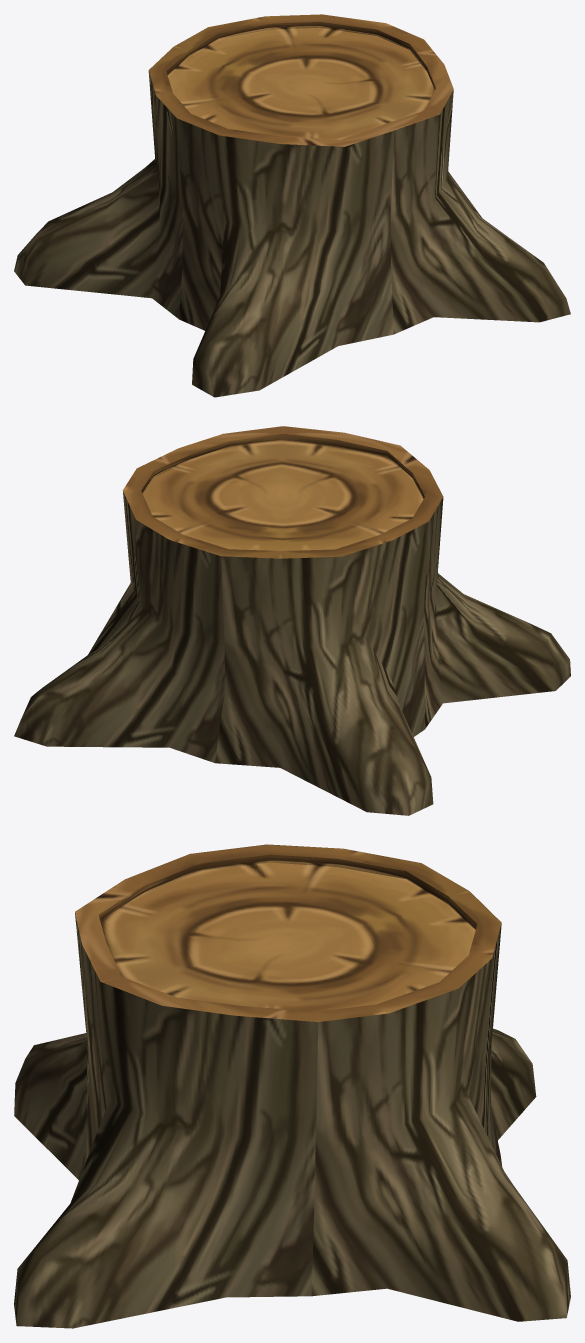
Rendered from Stump01.fbx.
3 views of the same model, one above another, from view 1: azimuth 30°, elevation 25°; view 2: azimuth 150°, elevation 25°; view 3: azimuth 270°, elevation 25° (orthographic). The views are drawn at different scales.
Visible parts, largest first — view 1: Stump01_LOD0; view 2: Stump01_LOD0; view 3: Stump01_LOD0.
Boxes of the visible parts, x1,y1,x2,y2 form: Stump01_LOD0: (14,14,570,397); Stump01_LOD0: (14,426,570,815); Stump01_LOD0: (14,844,570,1328).
Size of what is drawn, in the model's own units: 62.27 by 31.51 by 56.86.
